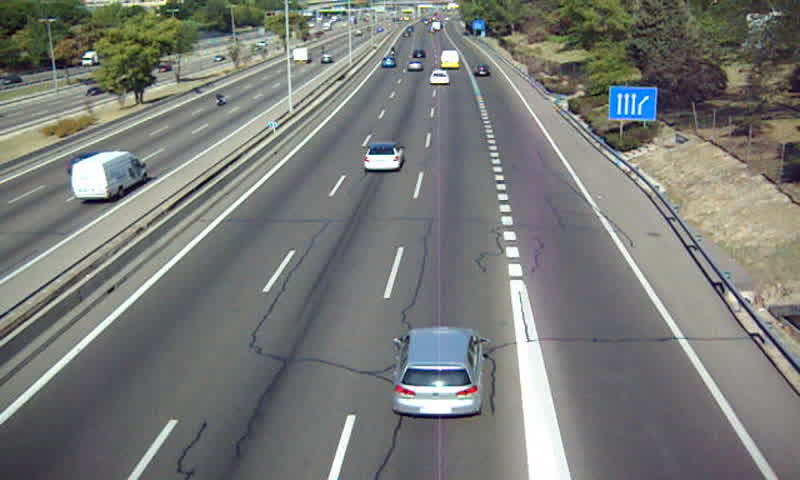car: (392, 327, 483, 418), (364, 143, 405, 171), (429, 71, 451, 84), (472, 65, 491, 78)
